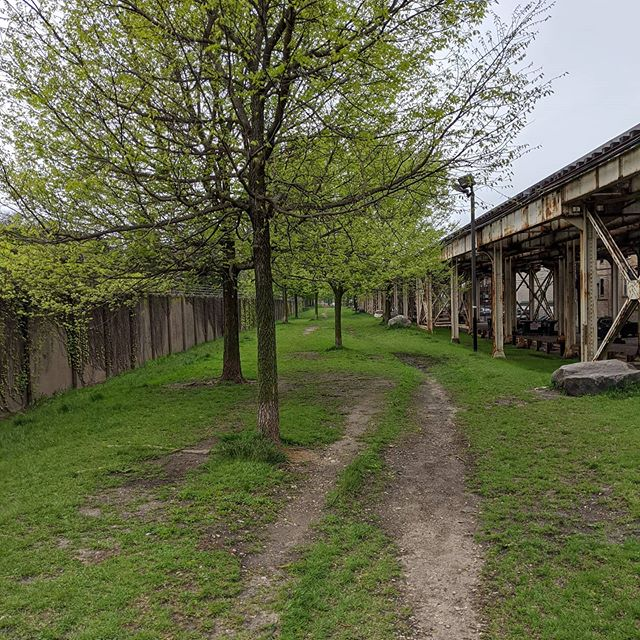bridge: (386, 40, 640, 349)
tree: (1, 1, 449, 445)
